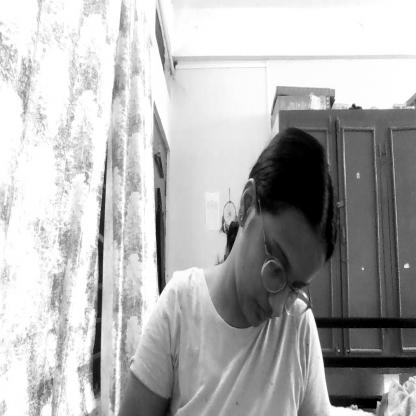Distracted: (226, 126, 346, 344)
